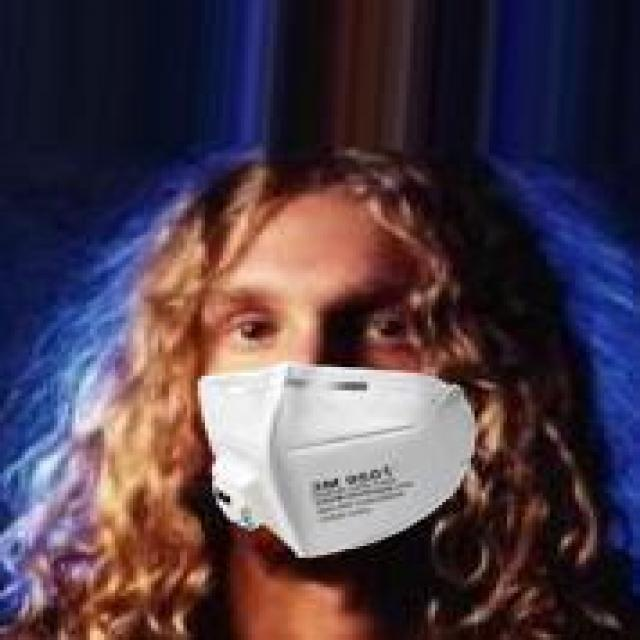mask: (129, 100, 561, 602)
